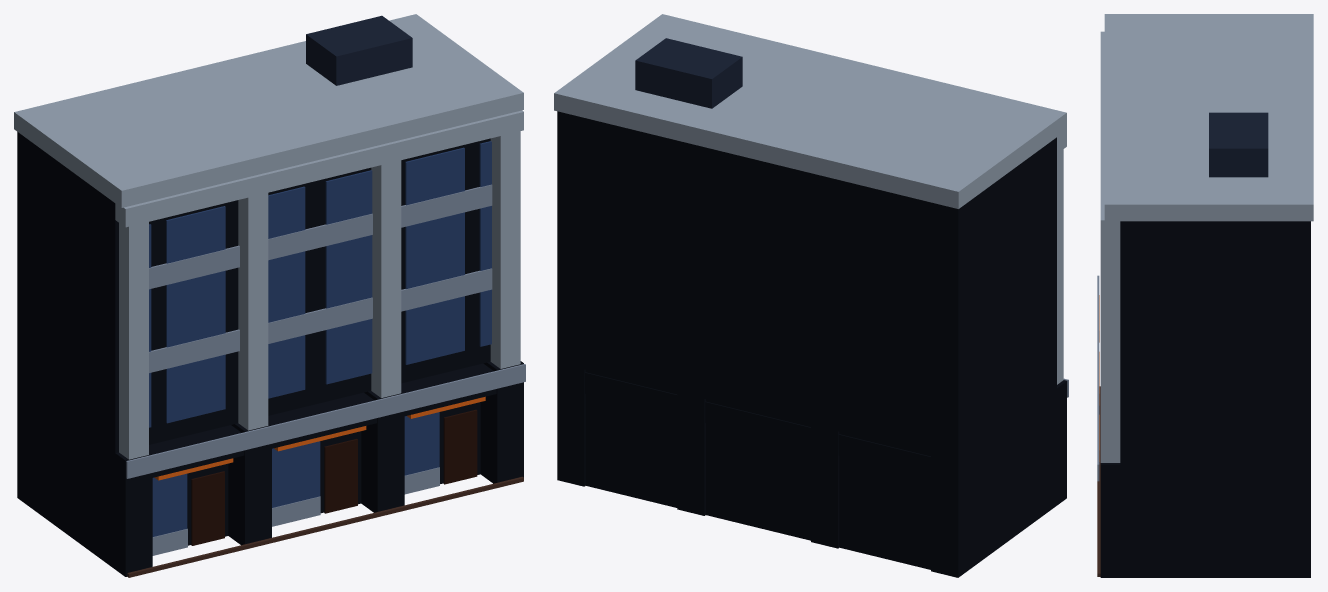
Rendered from exchange4.obj.
The picture shows the model from 3 angles, left to right: view 1: azimuth 30°, elevation 25°; view 2: azimuth 150°, elevation 25°; view 3: azimuth 270°, elevation 25°; orthographic projection. The views are drawn at different scales.
Parts seen in each view (by area): view 1: parapet, upper-back, bay-glazing, giant-piers, base-piers, spandrels, order-entablature, transom, shop-doors, shopfronts, roof-plant, base-heads (+4 smaller); view 2: upper-back, parapet, base-back, base-piers, base-heads, roof-plant, giant-piers; view 3: upper-back, parapet, base-piers, giant-piers, roof-plant, order-entablature, transom, pavement.
Part boxes in pixels (bbox=[...]): parapet: bbox=[14, 14, 523, 207]; upper-back: bbox=[17, 132, 490, 452]; bay-glazing: bbox=[149, 141, 491, 427]; giant-piers: bbox=[119, 131, 520, 459]; base-piers: bbox=[17, 361, 523, 576]; spandrels: bbox=[149, 184, 492, 372]; order-entablature: bbox=[115, 110, 523, 227]; transom: bbox=[126, 364, 525, 478]; shop-doors: bbox=[191, 409, 477, 545]; shopfronts: bbox=[152, 412, 439, 536]; roof-plant: bbox=[306, 15, 412, 85]; base-heads: bbox=[149, 363, 496, 477]; upper-back: bbox=[557, 111, 1056, 460]; parapet: bbox=[554, 14, 1066, 208]; base-back: bbox=[585, 370, 930, 569]; base-piers: bbox=[557, 363, 1066, 577]; base-heads: bbox=[585, 372, 930, 477]; roof-plant: bbox=[635, 38, 742, 108]; giant-piers: bbox=[1057, 149, 1063, 384]; upper-back: bbox=[1120, 221, 1310, 464]; parapet: bbox=[1104, 14, 1313, 221]; base-piers: bbox=[1100, 463, 1310, 577]; giant-piers: bbox=[1100, 238, 1120, 462]; roof-plant: bbox=[1209, 112, 1268, 177]; order-entablature: bbox=[1100, 31, 1120, 238]; transom: bbox=[1097, 275, 1099, 481]; pavement: bbox=[1097, 386, 1100, 576].
Bounding box in the file's own units: 6.86 × 6.76 × 3.29.
